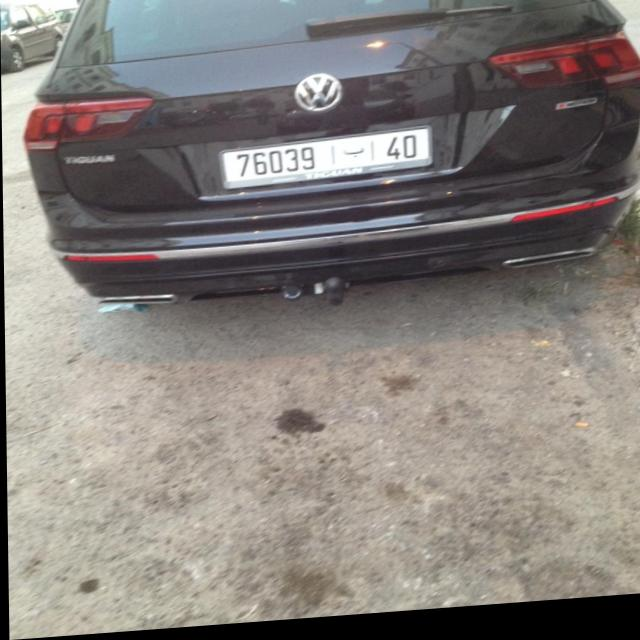License-Plate: (220, 133, 432, 192)
